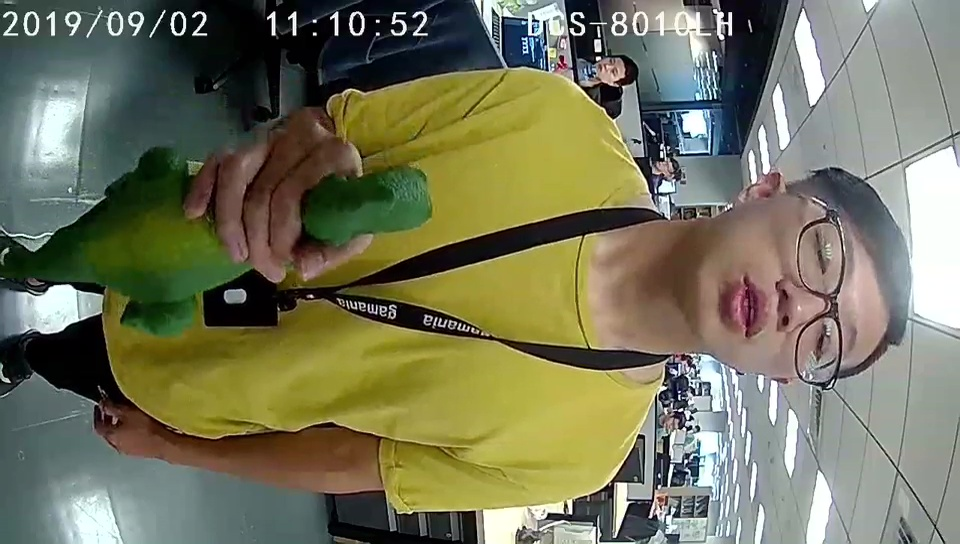rex: (119, 163, 434, 338)
